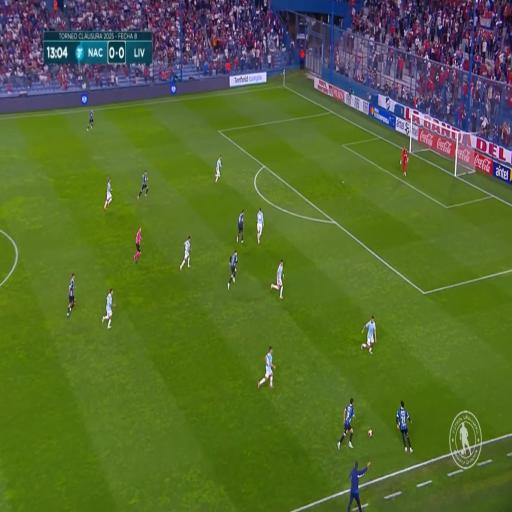Ball: (368, 429, 373, 439)
Goalkeeper: (401, 143, 408, 175)
Player: (396, 402, 410, 454), (364, 313, 376, 357), (264, 341, 275, 388), (103, 287, 115, 328), (344, 398, 354, 444), (68, 274, 77, 318), (139, 166, 150, 200), (238, 206, 246, 248), (276, 258, 284, 297), (184, 233, 192, 271), (105, 174, 113, 208), (230, 249, 237, 287), (256, 205, 263, 240), (214, 154, 222, 183), (87, 109, 93, 133)
Referee: (134, 226, 142, 264)
